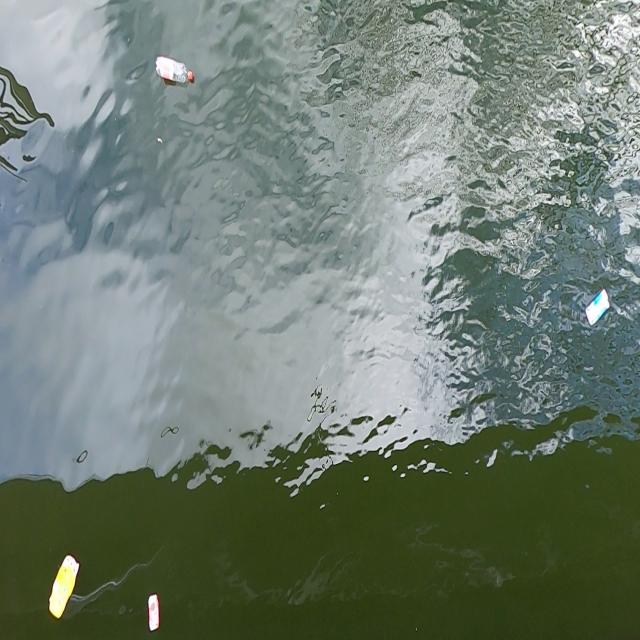Bouteille plastique: (150, 52, 199, 90)
Non plastique: (582, 286, 616, 333), (145, 589, 163, 637)
